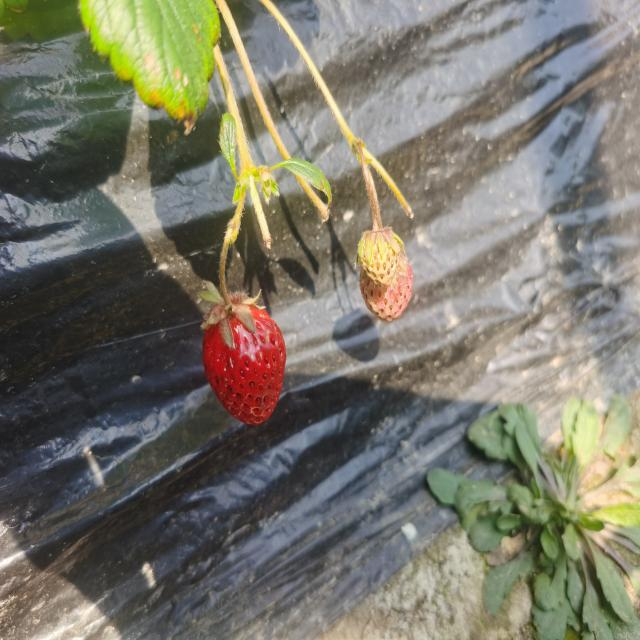stem: (219, 252, 233, 309)
strawberry: (202, 294, 286, 425)
